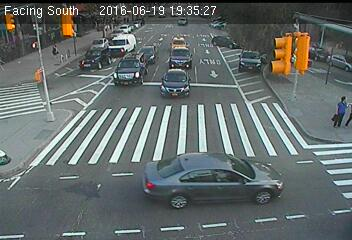neg: (261, 36, 292, 78), (287, 185, 315, 222), (31, 143, 58, 178), (212, 125, 238, 161), (67, 85, 93, 120), (103, 58, 129, 92), (159, 62, 184, 95), (270, 117, 295, 150), (109, 155, 133, 186), (50, 41, 73, 71), (171, 115, 192, 143), (209, 14, 230, 42), (212, 191, 231, 217), (53, 185, 72, 210), (33, 93, 51, 117), (235, 71, 249, 90)
pos: (322, 93, 349, 129)
